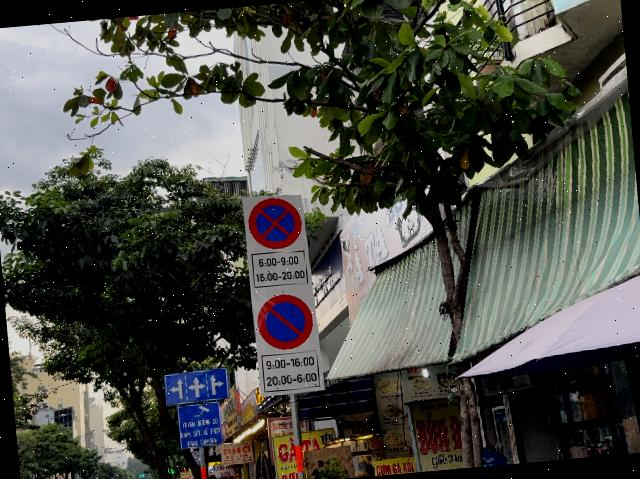cam-do-xe: (254, 292, 316, 351)
cam-dung-va-do-xe: (246, 195, 303, 251)
